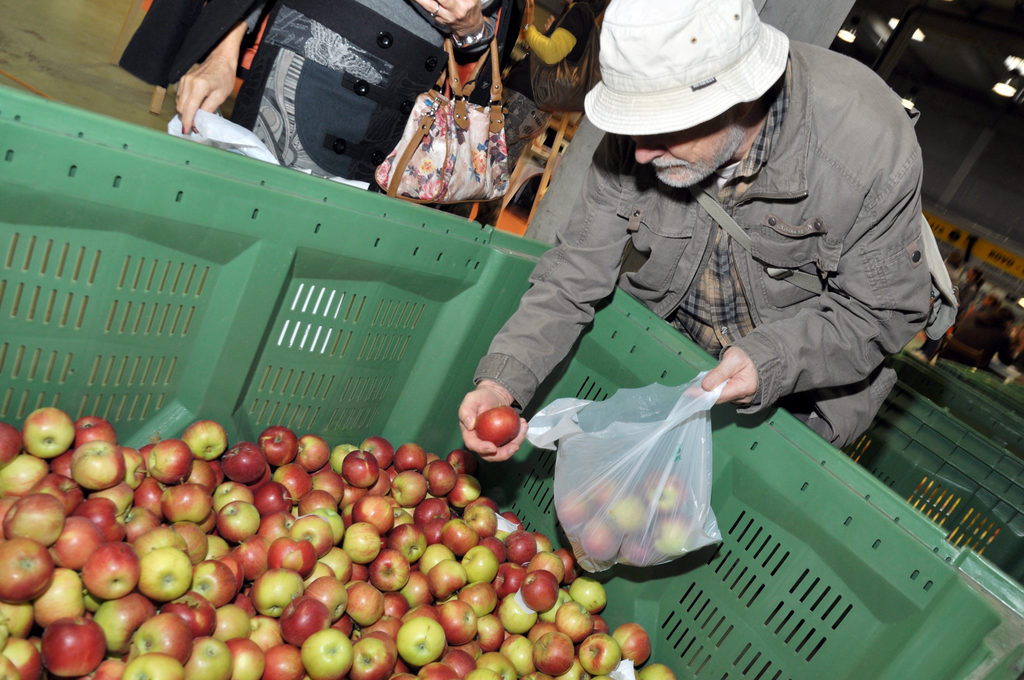Apple: (0, 406, 678, 679), (561, 470, 702, 565), (121, 543, 195, 621), (476, 406, 516, 449)
